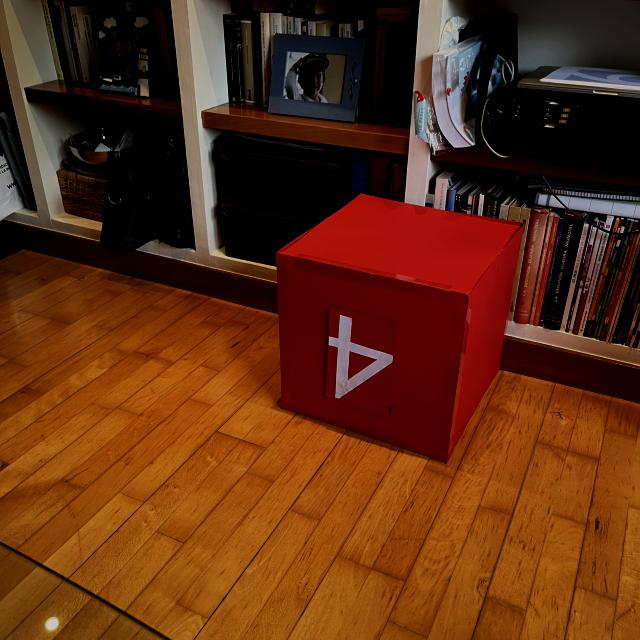box: (270, 190, 526, 464)
